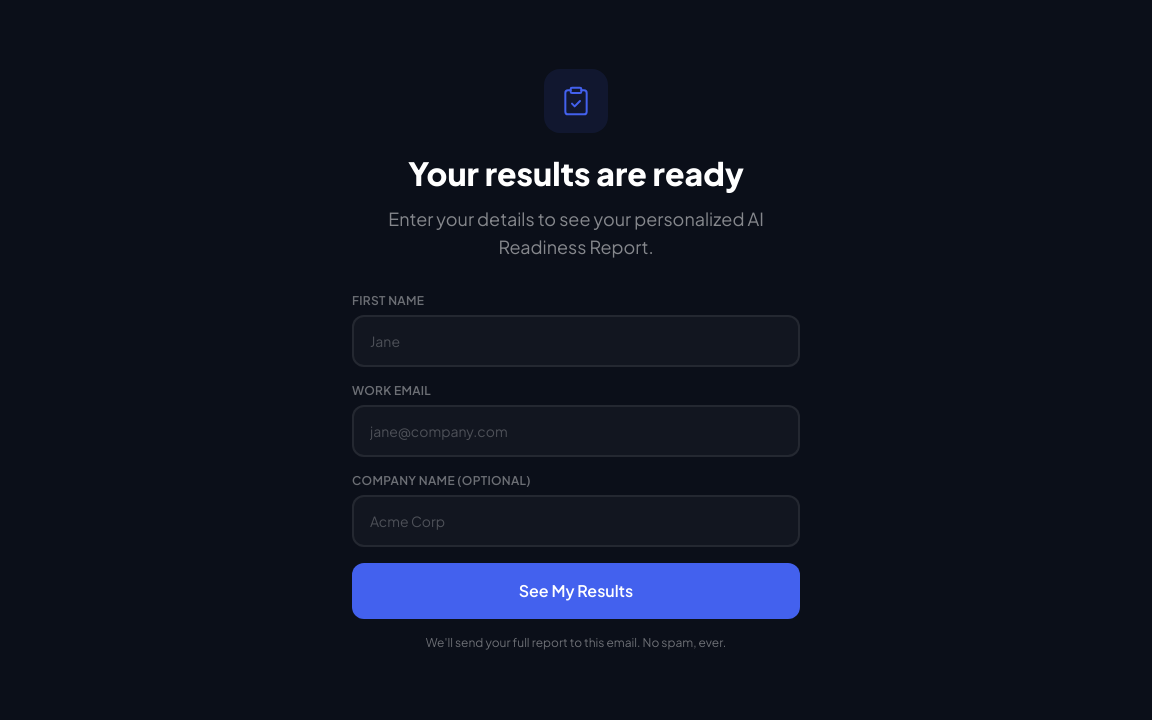
Test: EmailCapturePage smoke › submits the assessment lead to the server endpoint and navigates to results
Type "Dean" into the field labelled "First name" at [576, 341], box x1=352 y1=315 x2=800 y2=367
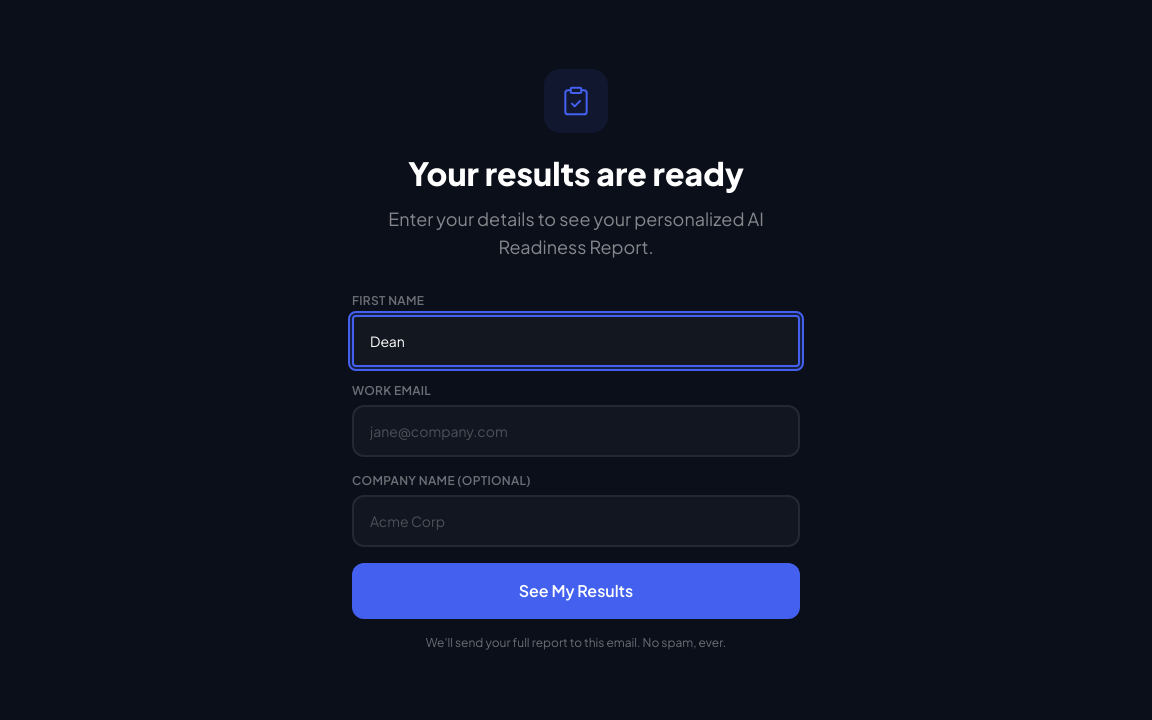
Type "dean@example.com" into the field labelled "Work email" at [576, 431], box x1=352 y1=405 x2=800 y2=457
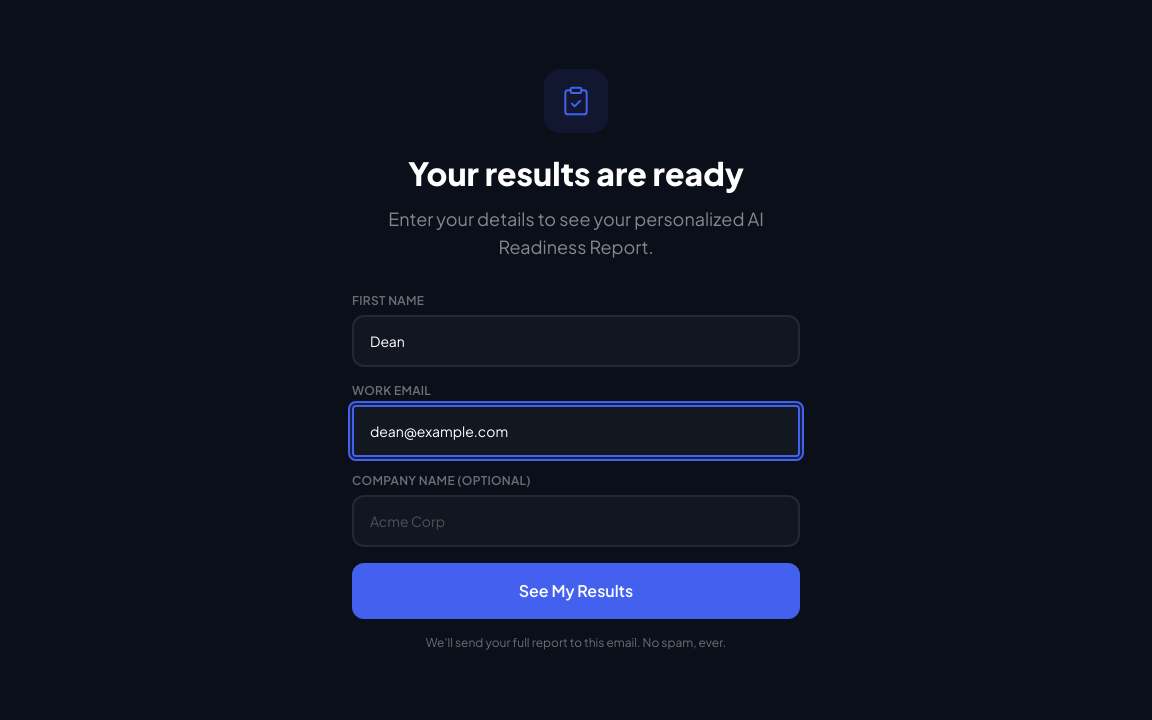
Type "DevelopedByDean" into the field labelled "Company name (optional)" at [576, 521], box x1=352 y1=495 x2=800 y2=547
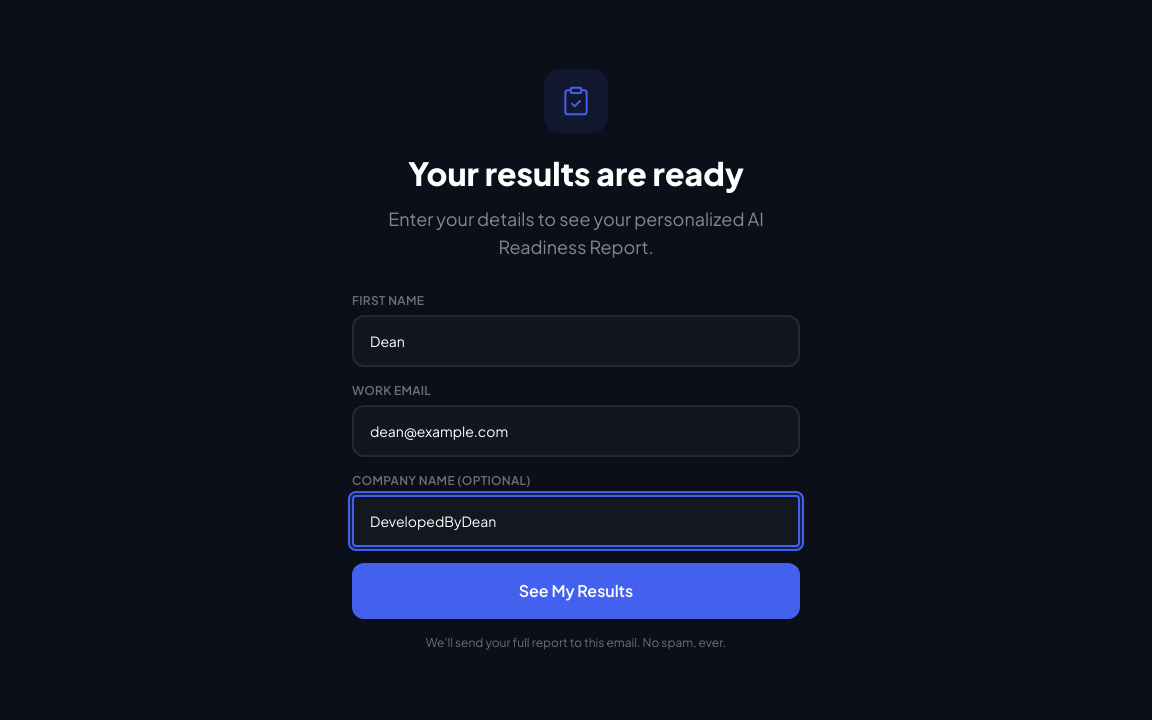
Click the button "See My Results" at [576, 591], box x1=352 y1=563 x2=800 y2=619
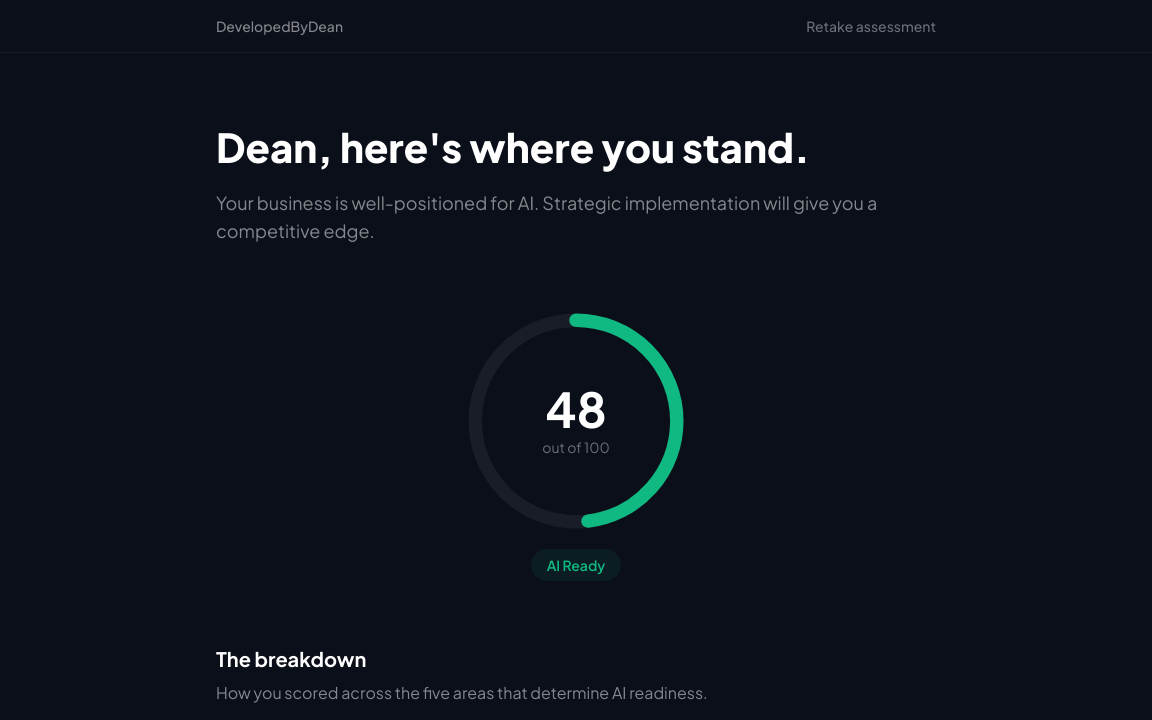
Now the heading "Dean, here's where you stand." is shown, box x1=216 y1=121 x2=810 y2=172
